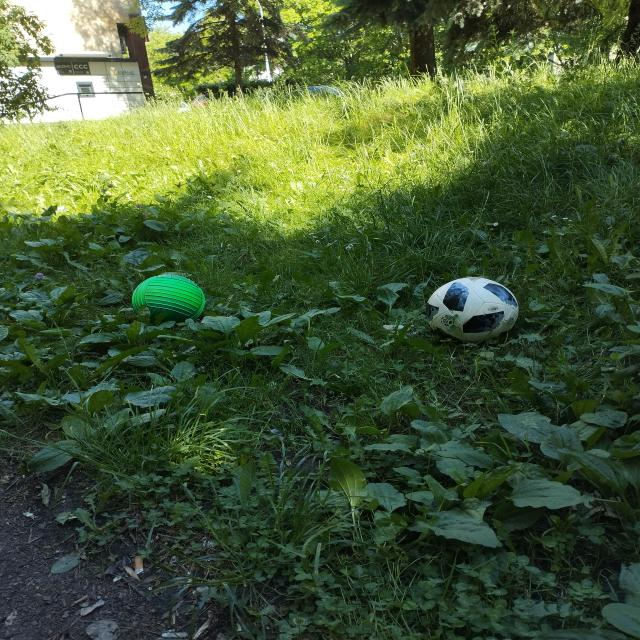nozna: (426, 277, 518, 343)
zielona: (132, 274, 205, 324)
